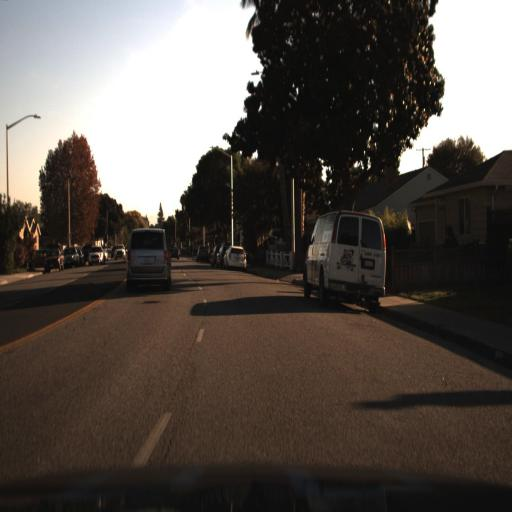car: (302, 209, 388, 309), (120, 224, 171, 294), (222, 244, 246, 273), (46, 248, 64, 272), (65, 242, 80, 270), (86, 244, 104, 267), (62, 245, 79, 267), (112, 239, 127, 261), (88, 246, 105, 265), (207, 240, 217, 269), (213, 239, 222, 270)
